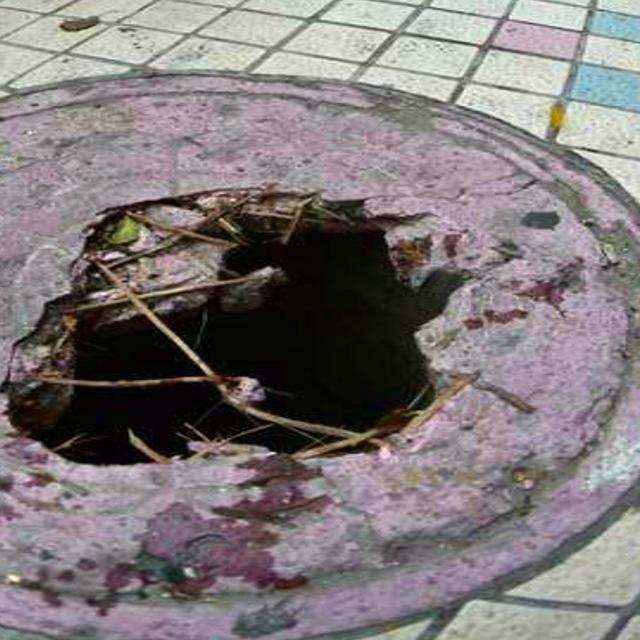broke: (0, 65, 640, 636)
